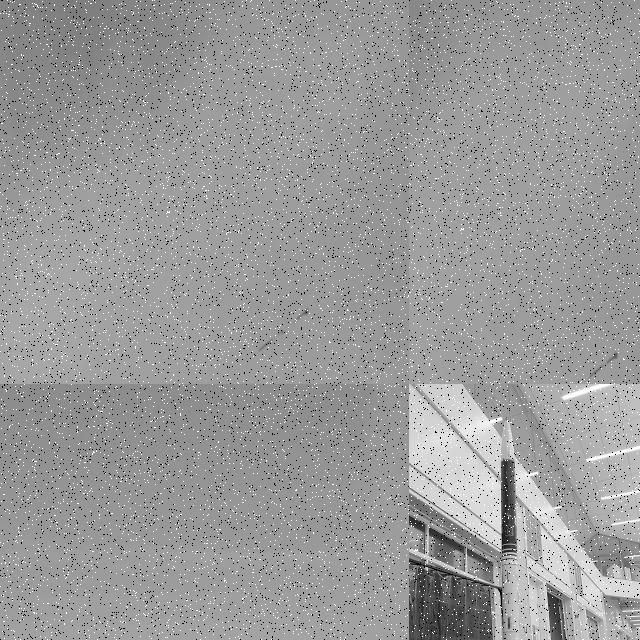Rocket: (500, 416, 520, 640), (259, 307, 309, 352), (589, 351, 618, 378)
